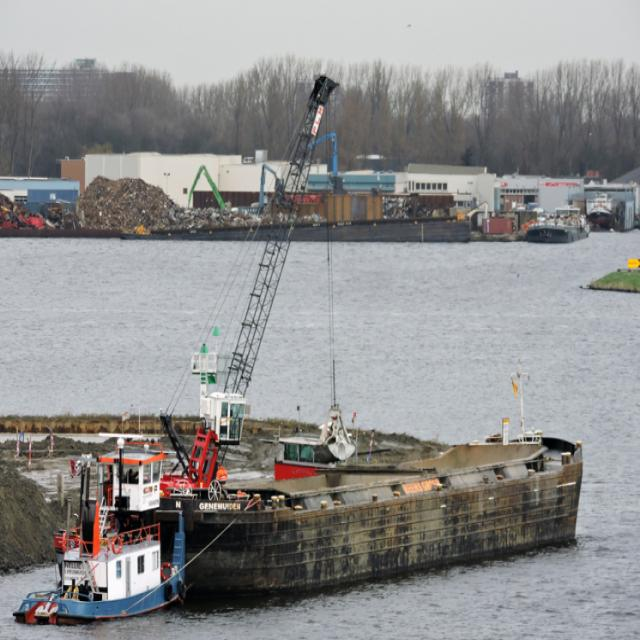tugboat: (11, 430, 192, 636)
